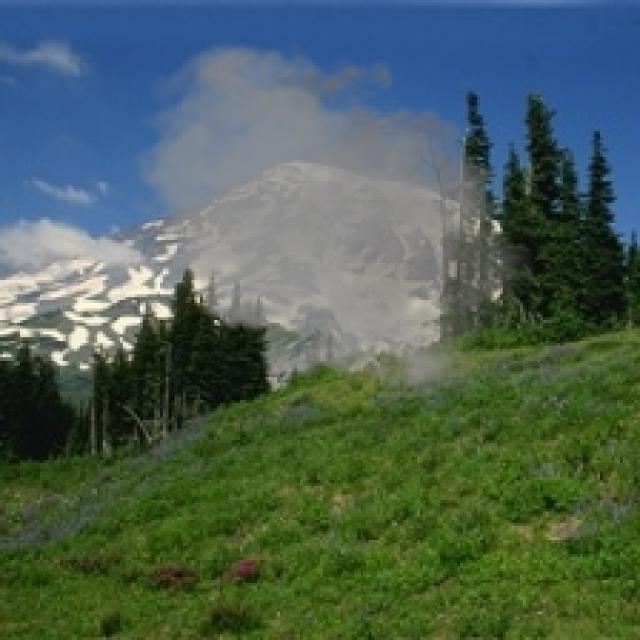Smoke: (122, 37, 548, 403)
